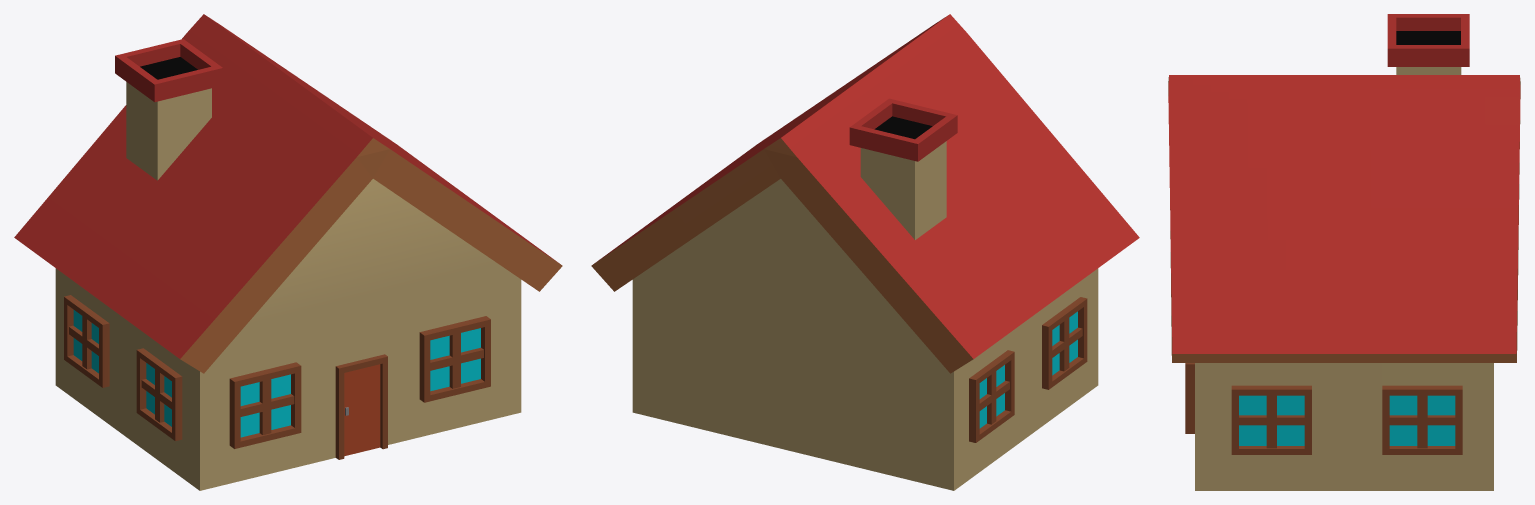
File: casa_temp.fbx
3 renders of one model, left to right at view 1: azimuth 30°, elevation 25°; view 2: azimuth 150°, elevation 25°; view 3: azimuth 270°, elevation 25°, orthographic. The views are drawn at different scales.
Parts seen in each view (by area): view 1: casa; view 2: casa; view 3: casa.
Boxes of the visible parts, <box> form: casa: <box>14,14,562,490</box>; casa: <box>591,14,1139,490</box>; casa: <box>1168,14,1520,490</box>.
Size of the model in its own units: 1108 by 904 by 852.
